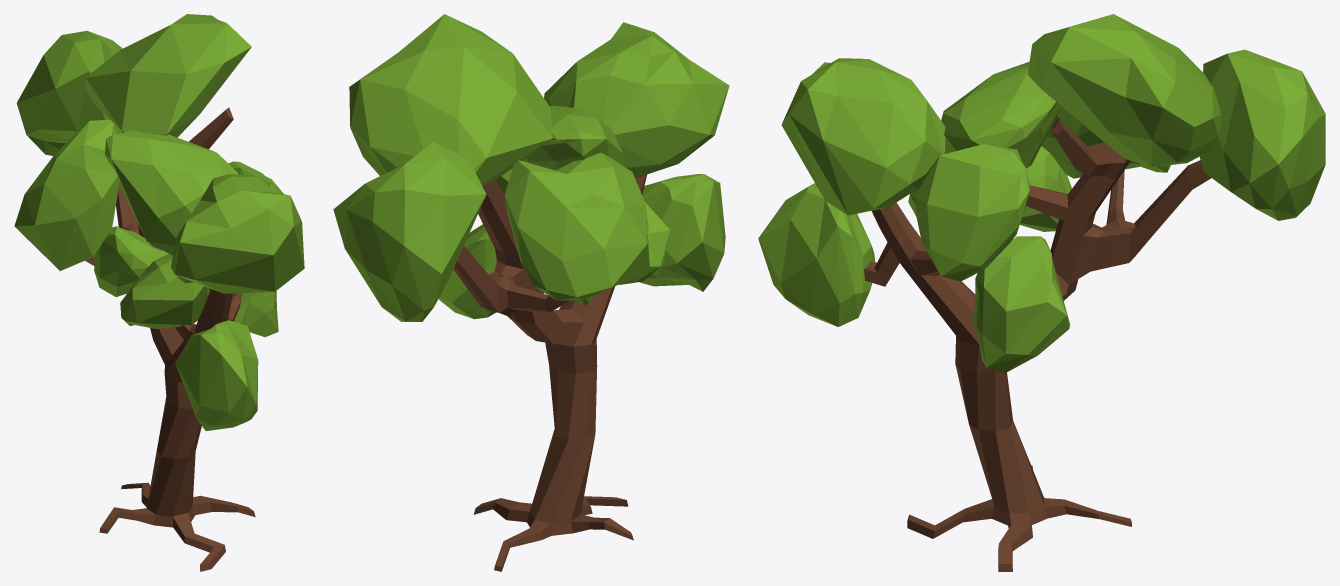
The picture shows the model from 3 angles, left to right: view 1: azimuth 30°, elevation 25°; view 2: azimuth 150°, elevation 25°; view 3: azimuth 270°, elevation 25°; orthographic projection. The views are drawn at different scales.
Visible parts, largest first — view 1: t1-green; view 2: t1-green; view 3: t1-green.
Part boxes in pixels (left/top/right/bottom): t1-green: left=14, top=14, right=304, bottom=571; t1-green: left=333, top=14, right=729, bottom=571; t1-green: left=758, top=14, right=1325, bottom=571.
Size of the model in its own units: 606 by 1175 by 1101.
